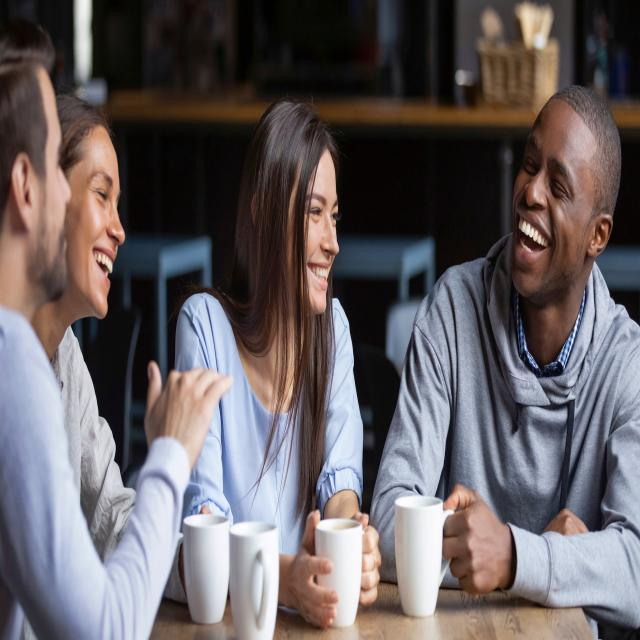adult: (0, 15, 234, 640), (367, 86, 640, 616), (174, 94, 378, 632), (32, 95, 134, 535)
